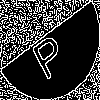P: (25, 25, 69, 82)
